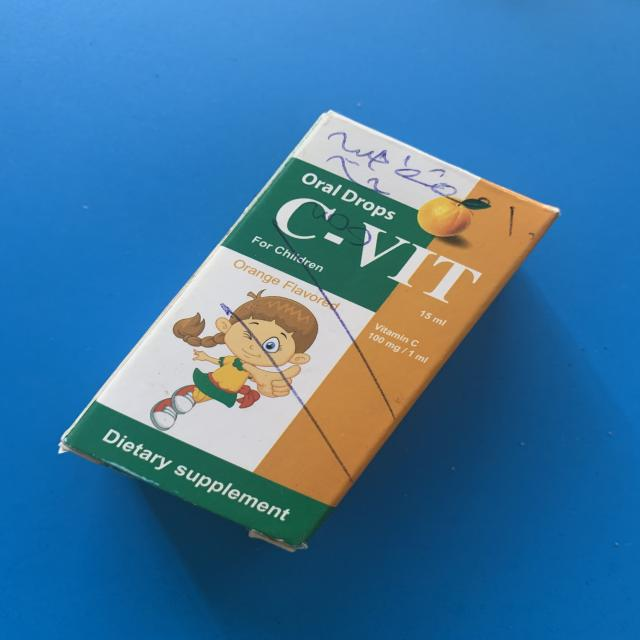C-VIT: (60, 109, 568, 563)
